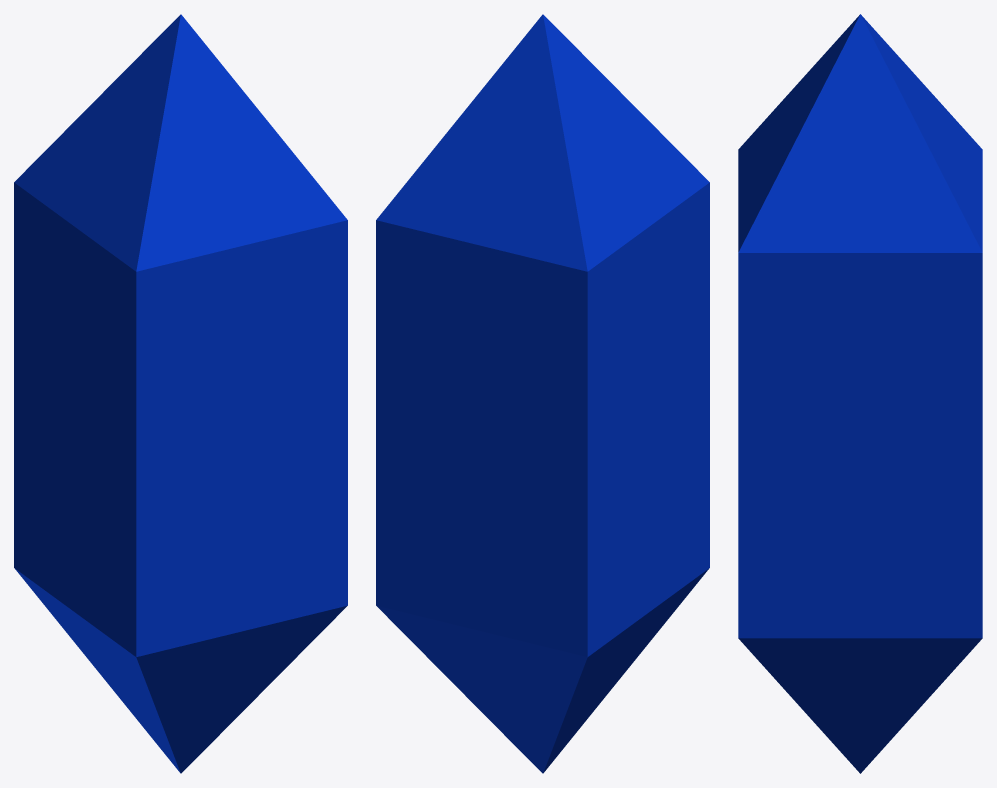
File: treasure4ButtonText.obj
3 views of the same model, side by side, from view 1: azimuth 30°, elevation 25°; view 2: azimuth 150°, elevation 25°; view 3: azimuth 270°, elevation 25° (orthographic).
Parts seen in each view (by area): view 1: treasure4ButtonText; view 2: treasure4ButtonText; view 3: treasure4ButtonText.
Boxes of the visible parts, left/top/right/bottom form: treasure4ButtonText: left=14, top=14, right=347, bottom=773; treasure4ButtonText: left=376, top=14, right=709, bottom=773; treasure4ButtonText: left=738, top=14, right=982, bottom=773.
Size of the model in its own units: 0.2169 by 0.7443 by 0.2169.
